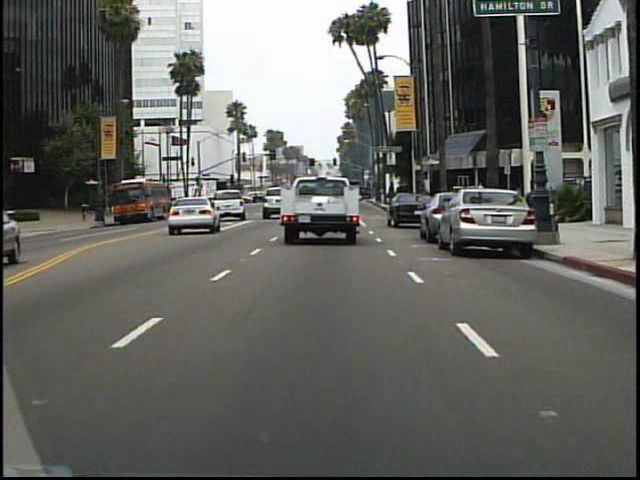person: (475, 179, 491, 219), (80, 196, 91, 224)
